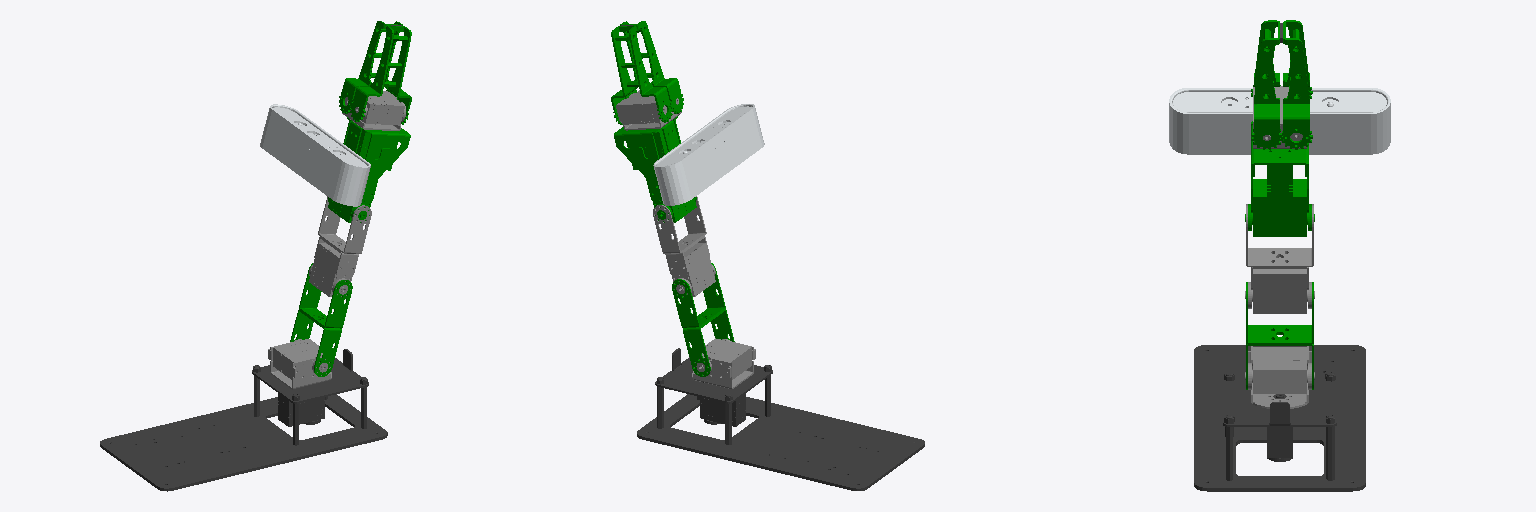
The robot description file, URDF, robot "arm5dof":
<?xml version="1.0" encoding="utf-8"?>
<!-- This URDF was automatically created by SolidWorks to URDF Exporter! Originally created by Stephen Brawner (brawner@gmail.com) 
     Commit Version: 1.6.0-4-g7f85cfe  Build Version: 1.6.7995.38578
     For more information, please see http://wiki.ros.org/sw_urdf_exporter -->
<robot
  name="arm5dof">
  <link
    name="base_link">
    <inertial>
      <origin
        xyz="-0.05549 -1.2443E-05 0.014047"
        rpy="0 0 0" />
      <mass
        value="0.34831" />
      <inertia
        ixx="0.00037734"
        ixy="-1.9667E-07"
        ixz="-5.7059E-07"
        iyy="0.0011827"
        iyz="9.3336E-14"
        izz="0.0015361" />
    </inertial>
    <visual>
      <origin
        xyz="0 0 0"
        rpy="0 0 0" />
      <geometry>
        <mesh
          filename="package://robot_control/meshes/base_link.STL" />
      </geometry>
      <material
        name="black">
        <color
          rgba="0.3 0.3 0.3 1" />
      </material>
    </visual>
    <collision>
      <origin
        xyz="0 0 0"
        rpy="0 0 0" />
      <geometry>
        <mesh
          filename="package://robot_control/meshes/base_link.STL" />
      </geometry>
    </collision>
  </link>
  <link
    name="link1">
    <inertial>
      <origin
        xyz="-0.0098047 1.4097E-06 0.014583"
        rpy="0 0 0" />
      <mass
        value="0.047857" />
      <inertia
        ixx="9.9743E-06"
        ixy="1.2606E-09"
        ixz="5.9862E-07"
        iyy="8.9062E-06"
        iyz="2.193E-09"
        izz="1.4861E-05" />
    </inertial>
    <visual>
      <origin
        xyz="0 0 0"
        rpy="0 0 0" />
      <geometry>
        <mesh
          filename="package://robot_control/meshes/link1.STL" />
      </geometry>
      <material
        name="green">
        <color
          rgba="0.6 0.6 0.6 1" />
      </material>
    </visual>
    <collision>
      <origin
        xyz="0 0 0"
        rpy="0 0 0" />
      <geometry>
        <mesh
          filename="package://robot_control/meshes/link1.STL" />
      </geometry>
    </collision>
  </link>
  <joint
    name="joint_0"
    type="revolute">
    <origin
      xyz="0 0 0.052"
      rpy="0 0 0" />
    <parent
      link="base_link" />
    <child
      link="link1" />
    <axis
      xyz="0 0 1" />
    <limit
      lower="-1.5708"
      upper="1.5708"
      effort="20"
      velocity="3.5" />
  </joint>
    <link
    name="link2">
    <inertial>
      <origin
        xyz="0.04 -5.5511E-17 6.7485E-17"
        rpy="0 0 0" />
      <mass
        value="0.020202" />
      <inertia
        ixx="9.9386E-06"
        ixy="1.7219E-08"
        ixz="-5.3147E-21"
        iyy="1.3724E-05"
        iyz="-1.594E-21"
        izz="5.1826E-06" />
    </inertial>
    <visual>
      <origin
        xyz="0 0 0"
        rpy="0 0 0" />
      <geometry>
        <mesh
          filename="package://robot_control/meshes/link2.STL" />
      </geometry>
      <material
        name="green">
        <color
          rgba="0 0.6 0 1" />
      </material>
    </visual>
    <collision>
      <origin
        xyz="0 0 0"
        rpy="0 0 0" />
      <geometry>
        <mesh
          filename="package://robot_control/meshes/link2.STL" />
      </geometry>
    </collision>
  </link>
  <joint
    name="joint_1"
    type="revolute">
    <origin
      xyz="0 0 0.018"
      rpy="-1.5708 0 0" />
    <parent
      link="link1" />
    <child
      link="link2" />
    <axis
      xyz="0 0 1"
      rpy = "0 0 0" />
    <limit
      lower="-2.3562"
      upper="-0.2269"
      effort="20"
      velocity="3.5" />
  </joint>

  <link
    name="link3">
    <inertial>
      <origin
        xyz="0.019908 0 -6.1294E-06"
        rpy="0 0 0" />
      <mass
        value="0.050927" />
      <inertia
        ixx="1.2573E-05"
        ixy="8.6095E-09"
        ixz="-1.9789E-09"
        iyy="1.7838E-05"
        iyz="3.1614E-20"
        izz="8.6328E-06" />
    </inertial>
    <visual>
      <origin
        xyz="0 0 0"
        rpy="0 0 0" />
      <geometry>
        <mesh
          filename="package://robot_control/meshes/link3.STL" />
      </geometry>
      <material
        name="gray">
        <color
          rgba="0.6 0.6 0.6 1" />
      </material>
    </visual>
    <collision>
      <origin
        xyz="0 0 0"
        rpy="0 0 0" />
      <geometry>
        <mesh
          filename="package://robot_control/meshes/link3.STL" />
      </geometry>
    </collision>
  </link>
  <joint
    name="joint_2"
    type="revolute">
    <origin
      xyz="0.08 0 0"
      rpy="0 0 0" />
    <parent
      link="link2" />
    <child
      link="link3" />
    <axis
      xyz="0 0 1" />
    <limit
      lower="-0.7854"
      upper="1.5708"
      effort="20"
      velocity="3.5" />
  </joint>
  <link
    name="link4">
    <inertial>
      <origin
        xyz="0.042216 0.0041806 -3.2915E-06"
        rpy="0 0 0" />
      <mass
        value="0.094835" />
      <inertia
        ixx="2.4341E-05"
        ixy="-2.5244E-06"
        ixz="-1.9789E-09"
        iyy="3.3312E-05"
        iyz="1.4436E-20"
        izz="3.0737E-05" />
    </inertial>
    <visual>
      <origin
        xyz="0 0 0"
        rpy="0 0 0" />
      <geometry>
        <mesh
          filename="package://robot_control/meshes/link4.STL" />
      </geometry>
      <material
        name="green">
        <color
          rgba="0 0.6 0 1" />
      </material>
    </visual>
    <collision>
      <origin
        xyz="0 0 0"
        rpy="0 0 0" />
      <geometry>
        <mesh
          filename="package://robot_control/meshes/link4.STL" />
      </geometry>
    </collision>
  </link>
  <joint
    name="joint_3"
    type="revolute">
    <origin
      xyz="0.07615 0 0"
      rpy="0 0 0" />
    <parent
      link="link3" />
    <child
      link="link4" />
    <axis
      xyz="0 0 1"
      rpy = "0 0 0" />
    <limit
      lower="-1.5708"
      upper="2.26893"
      effort="20"
      velocity="3.5" />
  </joint>
  <link
    name="link5">
    <inertial>
      <origin
        xyz="-8.2184E-06 -0.0011968 0.01386"
        rpy="0 0 0" />
      <mass
        value="0.049124" />
      <inertia
        ixx="8.2684E-06"
        ixy="2.2759E-09"
        ixz="5.1987E-11"
        iyy="1.1645E-05"
        iyz="5.9116E-07"
        izz="1.5458E-05" />
    </inertial>
    <visual>
      <origin
        xyz="0 0 0"
        rpy="0 0 0" />
      <geometry>
        <mesh
          filename="package://robot_control/meshes/link5.STL" />
      </geometry>
      <material
        name="gray">
        <color
          rgba="0.6 0.6 0.6 1" />
      </material>
    </visual>
    <collision>
      <origin
        xyz="0 0 0"
        rpy="0 0 0" />
      <geometry>
        <mesh
          filename="package://robot_control/meshes/link5.STL" />
      </geometry>
    </collision>
  </link>
<joint
    name="joint_4"
    type="revolute">
    <origin
      xyz="0.0854 0 0"
      rpy="-1.57079632679489 8.79419361882729E-05 -1.5707963267949" />
    <parent
      link="link4" />
    <child
      link="link5" />
    <axis
      xyz="0 0 1" />
    <limit
      lower="-1.5708"
      upper="1.5708"
      effort="20"
      velocity="3.5" />
  </joint>
  <link
    name="left_gripper_link">
    <inertial>
      <origin
        xyz="0.035118 0.00016366 5.5511E-17"
        rpy="0 0 0" />
      <mass
        value="0.024589" />
      <inertia
        ixx="1.611E-06"
        ixy="2.5381E-07"
        ixz="1.1103E-20"
        iyy="1.2951E-05"
        iyz="-2.2806E-22"
        izz="1.2364E-05" />
    </inertial>
    <visual>
      <origin
        xyz="0 0 0"
        rpy="0 0 0" />
      <geometry>
        <mesh
          filename="package://robot_control/meshes/left_gripper_link.STL" />
      </geometry>
      <material
        name="green">
        <color
          rgba="0 0.6 0 1" />
      </material>
    </visual>
    <collision>
      <origin
        xyz="0 0 0"
        rpy="0 0 0" />
      <geometry>
        <mesh
          filename="package://robot_control/meshes/left_gripper_link.STL" />
      </geometry>
    </collision>
  </link>
  <joint
    name="left_gripper_joint"
    type="revolute">
    <origin
      xyz="0 0.00965 0.016"
      rpy="8.7942E-05 -1.5708 0" />
    <parent
      link="link5" />
    <child
      link="left_gripper_link" />
    <axis
      xyz="0 0 1" />
    <limit
      lower="0"
      upper="1.5708"
      effort="20"
      velocity="3.5" />
  </joint>
  <link
    name="left_rubber_pad_link">
    <inertial>
      <origin
        xyz="-5.5511E-17 0.0005 0"
        rpy="0 0 0" />
      <mass
        value="8.5E-05" />
      <inertia
        ixx="2.0542E-09"
        ixy="-5.8301E-25"
        ixz="-4.0091E-24"
        iyy="2.2242E-09"
        iyz="2.0909E-27"
        izz="1.8417E-10" />
    </inertial>
    <visual>
      <origin
        xyz="0 0 0"
        rpy="0 0 0" />
      <geometry>
        <mesh
          filename="package://robot_control/meshes/left_rubber_pad_link.STL" />
      </geometry>
      <material
        name="rubber">
        <color
          rgba="0.29804 0.29804 0.29804 1" />
      </material>
    </visual>
    <collision>
      <origin
        xyz="0 0 0"
        rpy="0 0 0" />
      <geometry>
        <mesh
          filename="package://robot_control/meshes/left_rubber_pad_link.STL" />
      </geometry>
    </collision>
  </link>
  <joint
    name="left_rubber_pad_joint"
    type="fixed">
    <origin
      xyz="0.0810000000000007 -0.0109999999999981 0"
      rpy="0 0 0" />
    <parent
      link="left_gripper_link" />
    <child
      link="left_rubber_pad_link" />
    <axis
      xyz="0 0 0" />
  </joint>
  <link
    name="right_gripper_link">
    <inertial>
      <origin
        xyz="0.036355 -0.00017366 -4.996E-16"
        rpy="0 0 0" />
      <mass
        value="0.023734" />
      <inertia
        ixx="1.5331E-06"
        ixy="-2.5364E-07"
        ixz="-1.9986E-21"
        iyy="1.2074E-05"
        iyz="7.3824E-23"
        izz="1.1549E-05" />
    </inertial>
    <visual>
      <origin
        xyz="0 0 0"
        rpy="0 0 0" />
      <geometry>
        <mesh
          filename="package://robot_control/meshes/right_gripper_link.STL" />
      </geometry>
      <material
        name="green">
        <color
          rgba="0 0.6 0 1" />
      </material>
    </visual>
    <collision>
      <origin
        xyz="0 0 0"
        rpy="0 0 0" />
      <geometry>
        <mesh
          filename="package://robot_control/meshes/right_gripper_link.STL" />
      </geometry>
    </collision>
  </link>
  <joint
    name="right_gripper_joint"
    type="revolute">
    <origin
      xyz="0 -0.0123499997975674 0.016"
      rpy="8.79419382699738E-05 -1.5707963267949 0" />
    <parent
      link="link5" />
    <child
      link="right_gripper_link" />
    <axis
      xyz="0 0 1" />
    <limit
      lower="-1.5708"
      upper="0"
      effort="20"
      velocity="3.5" />
    <mimic
      joint="left_gripper_joint"
      multiplier="-1"
      offset="0" />
  </joint>
  <link
    name="right_rubber_pad_link">
    <inertial>
      <origin
        xyz="3.3307E-16 -0.0005 -2.6507E-15"
        rpy="0 0 0" />
      <mass
        value="8.5E-05" />
      <inertia
        ixx="2.0542E-09"
        ixy="-8.9622E-25"
        ixz="1.5346E-24"
        iyy="2.2242E-09"
        iyz="3.0737E-27"
        izz="1.8417E-10" />
    </inertial>
    <visual>
      <origin
        xyz="0 0 0"
        rpy="0 0 0" />
      <geometry>
        <mesh
          filename="package://robot_control/meshes/right_rubber_pad_link.STL" />
      </geometry>
      <material
        name="rubber">
        <color
          rgba="0.29804 0.29804 0.29804 1" />
      </material>
    </visual>
    <collision>
      <origin
        xyz="0 0 0"
        rpy="0 0 0" />
      <geometry>
        <mesh
          filename="package://robot_control/meshes/right_rubber_pad_link.STL" />
      </geometry>
    </collision>
  </link>
  <joint
    name="right_rubber_pad_joint"
    type="fixed">
    <origin
      xyz="0.081 0.011 0"
      rpy="0 0 0" />
    <parent
      link="right_gripper_link" />
    <child
      link="right_rubber_pad_link" />
    <axis
      xyz="0 0 0" />
  </joint>
  <link
    name="camera">
    <inertial>
      <origin
        xyz="0.012507582644275 0.000732174960914142 -0.0180019906281733"
        rpy="0 0 0" />
      <mass
        value="0.182214459073633" />
      <inertia
        ixx="3.36907557025265E-05"
        ixy="5.37491052812001E-09"
        ixz="-2.59991125882536E-08"
        iyy="0.000396547856460873"
        iyz="-6.17675676299939E-08"
        izz="0.000390144942272885" />
    </inertial>
    <visual>
      <origin
        xyz="0 0 0"
        rpy="0 0 0" />
      <geometry>
        <mesh
          filename="package://robot_control/meshes/camera.STL" />
      </geometry>
      <material
        name="">
        <color
          rgba="0.898039215686275 0.917647058823529 0.929411764705882 1" />
      </material>
    </visual>
    <collision>
      <origin
        xyz="0 0 0"
        rpy="0 0 0" />
      <geometry>
        <mesh
          filename="package://robot_control/meshes/camera.STL" />
      </geometry>
    </collision>
  </link>
  <joint
    name="camera_link"
    type="fixed">
    <origin
      xyz="0.06715 -0.0530000000000002 0.0125000000000016"
      rpy="0 1.5707963267949 0" />
    <parent
      link="link4" />
    <child
      link="camera" />
    <axis
      xyz="0 0 0" />
  </joint>
  <link
    name="ee_link">
  </link>
  <joint
    name="ee_joint"
    type="fixed">
    <parent link= "link5"/>
    <child link= "ee_link"/>
    <origin xyz= "0.000 0 0.07" rpy="0 0 0"/>
  </joint>  
</robot>

--- What the picture shows (computed from the rendered views, not written in the file) ---
3 views of the same robot in one strip: view 1: azimuth 30°, elevation 25°; view 2: azimuth 150°, elevation 25°; view 3: azimuth 270°, elevation 25° (orthographic).
Model arm5dof with 12 links and 11 joints (7 revolute, 4 fixed), rooted at base_link, posed joints at zero except 1 at the middle of their limits (joint_1 = -1.29).
Links seen in each view (by area): view 1: base_link, camera, link3, link4, link2, link1, left_gripper_link, link5, right_gripper_link; view 2: base_link, camera, link3, link4, link2, link1, right_gripper_link, link5, left_gripper_link; view 3: base_link, camera, link4, link3, link1, right_gripper_link, left_gripper_link, link2, link5.
Link boxes in pixels (<box>): base_link: <box>100,349,387,491</box>; camera: <box>260,104,370,206</box>; link3: <box>309,196,371,296</box>; link4: <box>328,117,410,222</box>; link2: <box>290,263,352,376</box>; link1: <box>268,339,331,389</box>; left_gripper_link: <box>350,25,411,124</box>; link5: <box>342,91,405,130</box>; right_gripper_link: <box>339,21,402,113</box>; base_link: <box>637,348,924,490</box>; camera: <box>653,104,764,205</box>; link3: <box>653,196,715,296</box>; link4: <box>614,116,696,222</box>; link2: <box>672,263,734,376</box>; link1: <box>692,338,755,388</box>; right_gripper_link: <box>611,25,672,124</box>; link5: <box>616,90,681,130</box>; left_gripper_link: <box>620,21,683,113</box>; base_link: <box>1194,345,1365,491</box>; camera: <box>1169,88,1390,154</box>; link4: <box>1245,121,1314,236</box>; link3: <box>1245,204,1314,313</box>; link1: <box>1245,346,1314,408</box>; right_gripper_link: <box>1280,20,1312,149</box>; left_gripper_link: <box>1251,20,1282,149</box>; link2: <box>1246,282,1313,389</box>; link5: <box>1253,86,1306,148</box>.
Size in the robot's own frame: 0.3041 by 0.165 by 0.4009 metres.
11 mesh visuals loaded from 11 distinct referenced files (11 binary STL).
